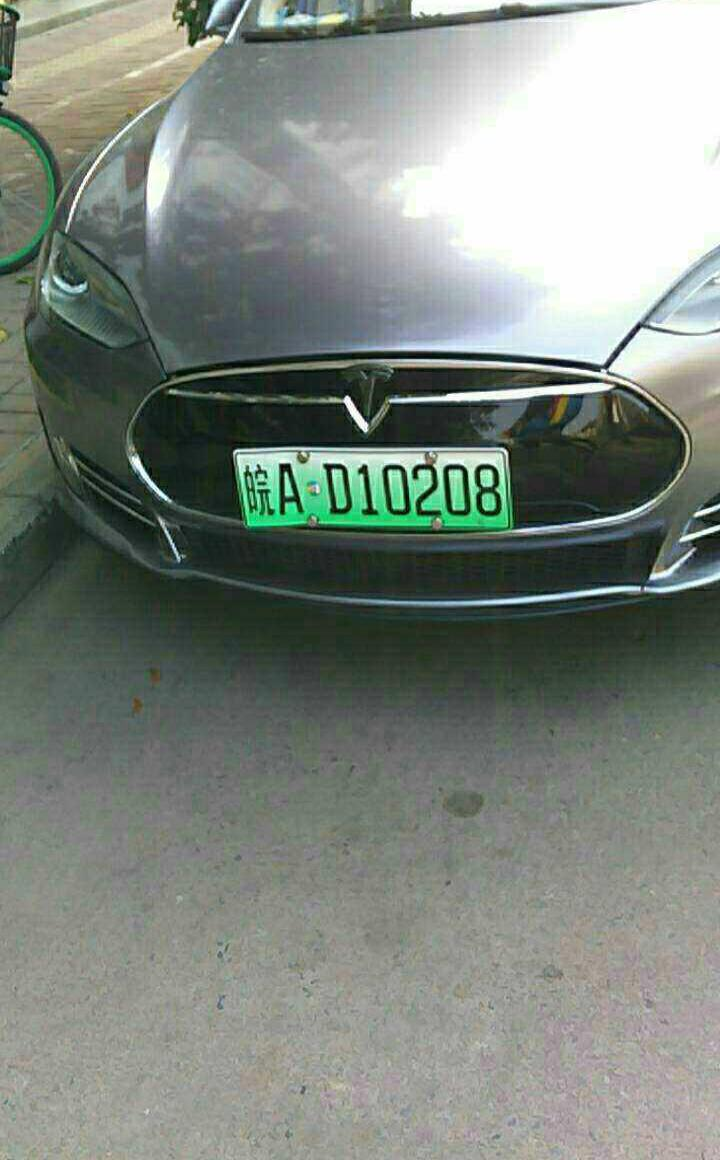car: (220, 449, 516, 530)
